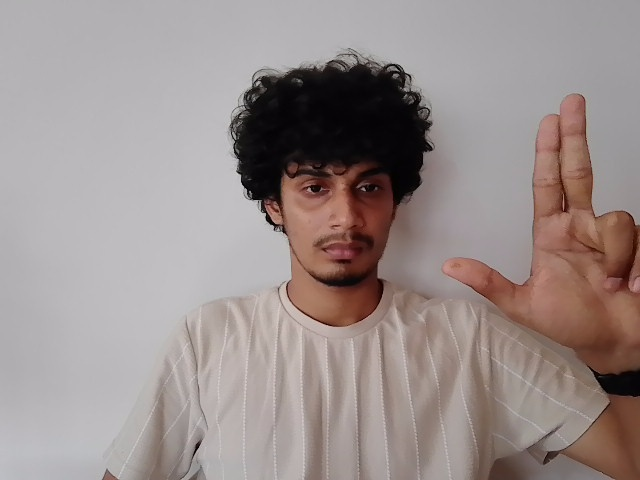no: (446, 90, 640, 345)
